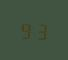nine: (19, 19, 32, 39)
three: (33, 19, 46, 40)
